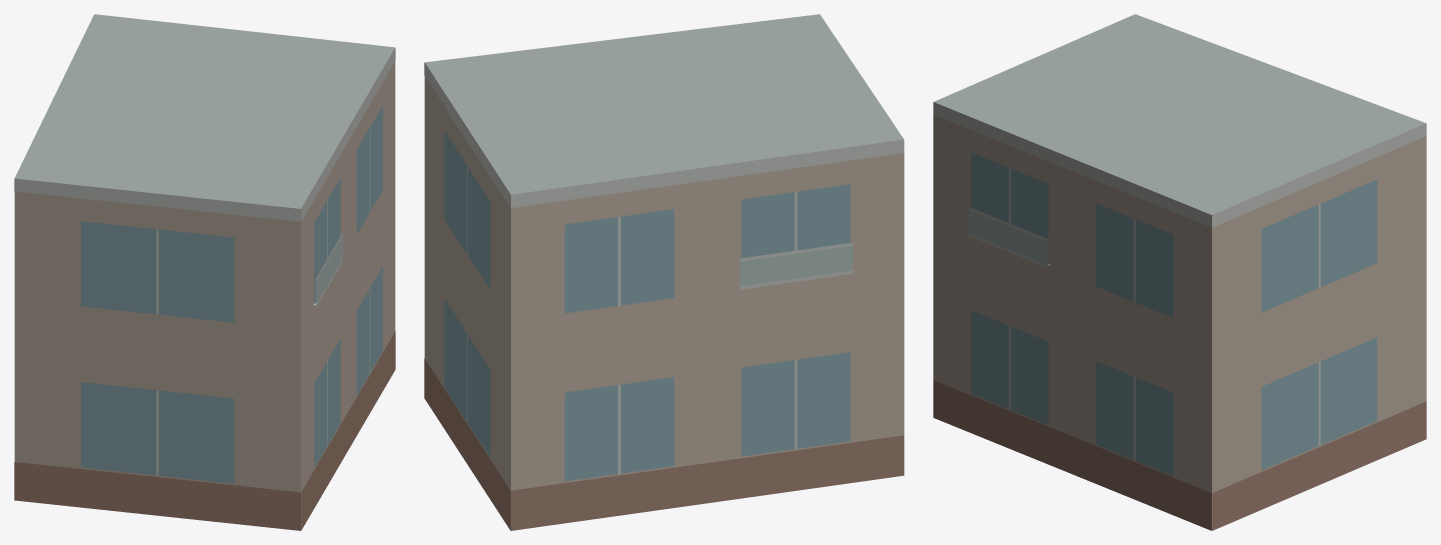
The model's file is survey-upis-32818185.glb.
3 renders of one model, left to right at view 1: azimuth 30°, elevation 25°; view 2: azimuth 150°, elevation 25°; view 3: azimuth 270°, elevation 25°, orthographic. The views are drawn at different scales.
Visible parts, largest first — view 1: survey-upis-32818185.tmp; view 2: survey-upis-32818185.tmp; view 3: survey-upis-32818185.tmp.
Part boxes in pixels (<box>): survey-upis-32818185.tmp: <box>14,14,395,530</box>; survey-upis-32818185.tmp: <box>424,14,904,530</box>; survey-upis-32818185.tmp: <box>933,14,1426,530</box>.
Size of the model in its own units: 8.34 by 6.1 by 8.64.
